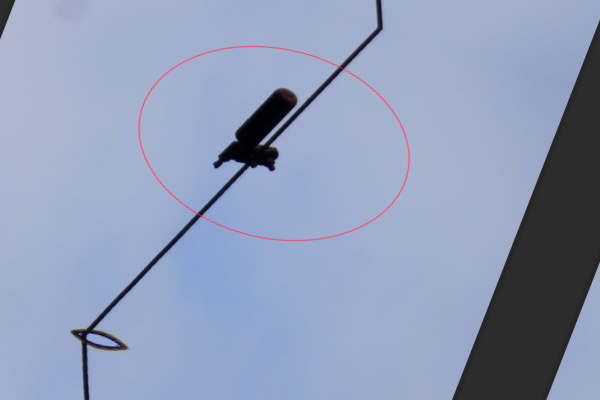damper_defect: (208, 85, 299, 174)
